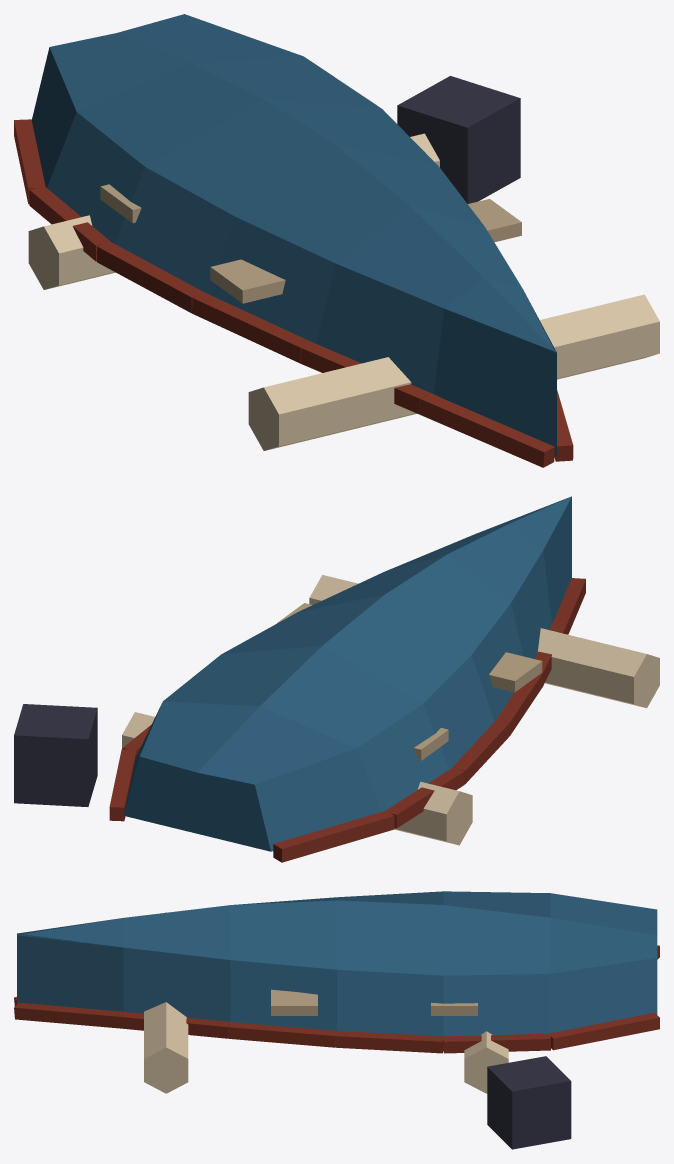
The model's file is rowboat_upturned.glb.
3 renders of one model, top to bottom at view 1: azimuth 30°, elevation 25°; view 2: azimuth 150°, elevation 25°; view 3: azimuth 270°, elevation 25°, orthographic. The views are drawn at different scales.
Parts seen in each view (by area): view 1: tide_d25, driftwood_l15, coal_d30, ink_l10, driftwood_d10; view 2: tide_d25, driftwood_l15, coal_d30, ink_l10, driftwood_d10; view 3: tide_d25, coal_d30, ink_l10, driftwood_l15, driftwood_d10.
Boxes of the visible parts, x1,y1,x2,y2 form: tide_d25: [31, 14, 556, 455]; driftwood_l15: [28, 133, 659, 450]; coal_d30: [14, 119, 573, 467]; ink_l10: [397, 76, 520, 203]; driftwood_d10: [100, 184, 521, 303]; tide_d25: [123, 496, 571, 851]; driftwood_l15: [122, 575, 659, 845]; coal_d30: [109, 578, 585, 862]; ink_l10: [14, 704, 97, 806]; driftwood_d10: [277, 603, 542, 760]; tide_d25: [17, 891, 657, 1036]; coal_d30: [14, 945, 659, 1053]; ink_l10: [487, 1056, 571, 1149]; driftwood_l15: [144, 912, 508, 1093]; driftwood_d10: [271, 989, 477, 1015].
Bounding box in the file's own units: 1.95 × 0.73 × 3.03.
